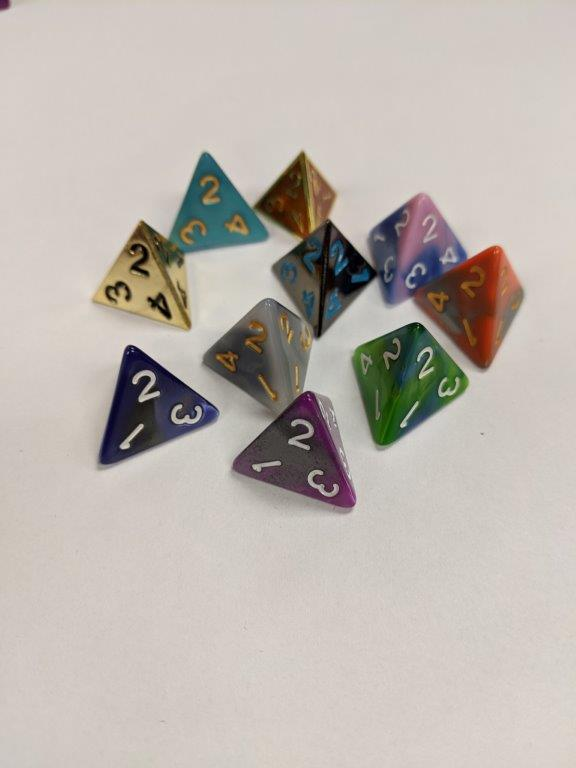d4-2: (228, 390, 360, 513), (347, 321, 464, 450), (97, 346, 215, 467), (200, 295, 311, 406), (153, 147, 270, 251), (91, 218, 195, 333), (270, 223, 375, 331), (443, 240, 531, 367), (368, 186, 456, 303), (252, 143, 343, 223)
